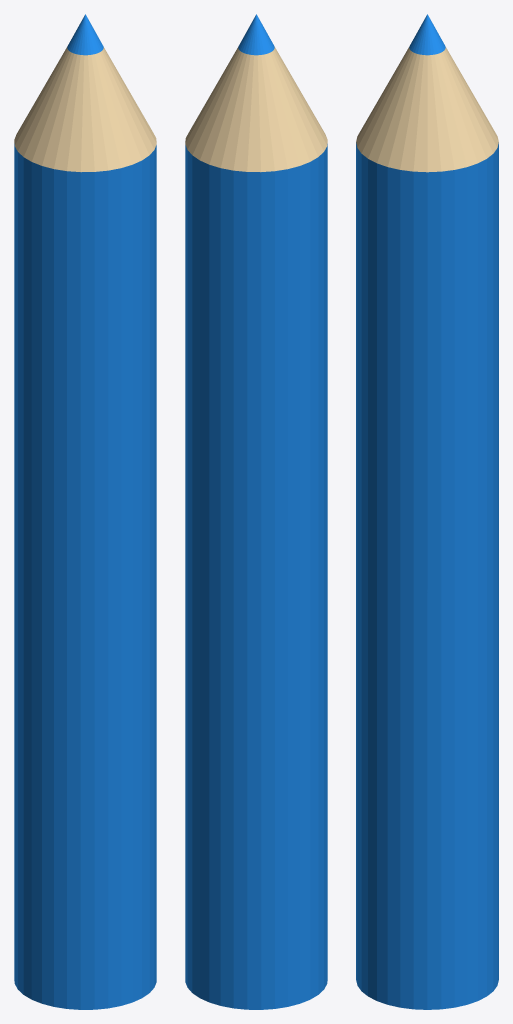
The model's file is kuruboyaamavi.fbx.
3 renders of one model, left to right at view 1: azimuth 30°, elevation 25°; view 2: azimuth 150°, elevation 25°; view 3: azimuth 270°, elevation 25°, orthographic.
Visible parts, largest first — view 1: Cylinder; view 2: Cylinder; view 3: Cylinder.
Part boxes in pixels (box(x1,y1,x2,y2)): Cylinder: box(14, 14, 156, 1009); Cylinder: box(185, 14, 327, 1009); Cylinder: box(356, 14, 498, 1009).
Bounding box in the file's own units: 200 × 1492 × 200.
